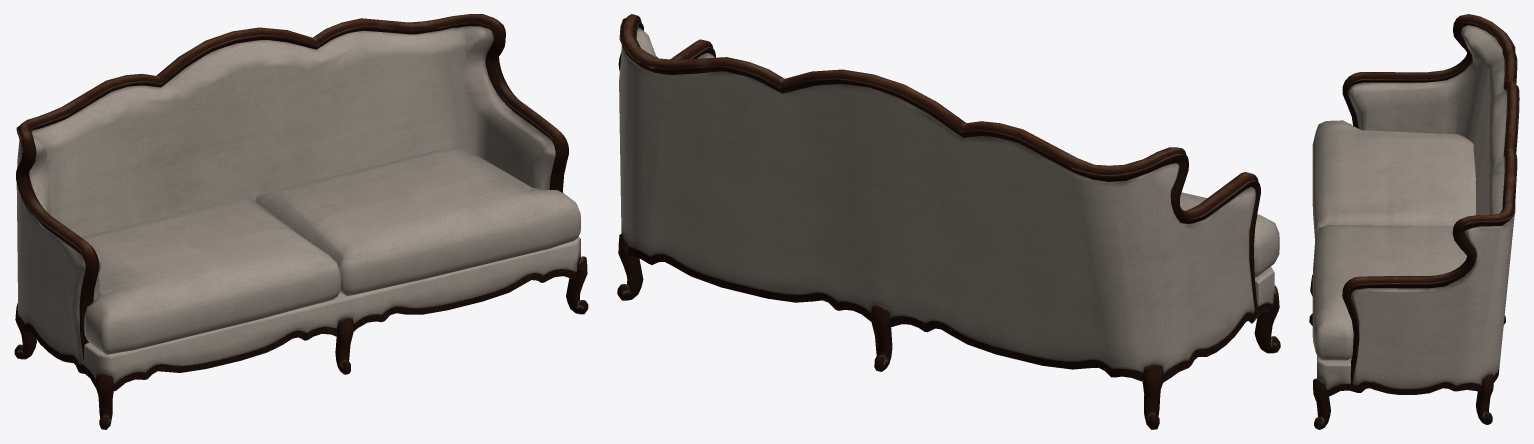
File: Sofa_01_1k.obj
3 views of the same model, side by side, from view 1: azimuth 30°, elevation 25°; view 2: azimuth 150°, elevation 25°; view 3: azimuth 270°, elevation 25° (orthographic). The views are drawn at different scales.
Visible parts, largest first — view 1: Sofa_01; view 2: Sofa_01; view 3: Sofa_01.
Boxes of the visible parts, bbox=[...] form: Sofa_01: bbox=[14, 14, 588, 429]; Sofa_01: bbox=[617, 14, 1280, 429]; Sofa_01: bbox=[1309, 14, 1519, 429].
Size of the model in its own units: 1.57 by 0.7965 by 0.658.
Materials: 1 (1 with a texture image).
